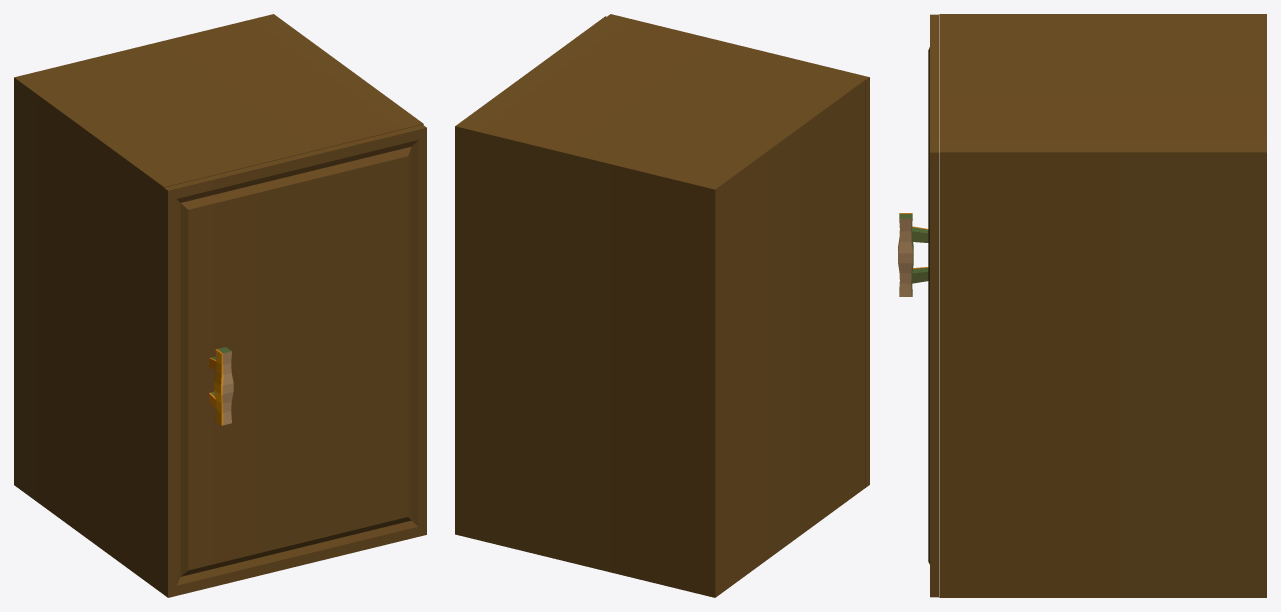
File: KitchenTabletop2_06.fbx
3 renders of one model, left to right at view 1: azimuth 30°, elevation 25°; view 2: azimuth 150°, elevation 25°; view 3: azimuth 270°, elevation 25°, orthographic. The views are drawn at different scales.
Parts seen in each view (by area): view 1: KitchenTabletop2_06; view 2: KitchenTabletop2_06; view 3: KitchenTabletop2_06.
Boxes of the visible parts, x1,y1,x2,y2 form: KitchenTabletop2_06: (14,14,426,597); KitchenTabletop2_06: (455,14,869,597); KitchenTabletop2_06: (898,14,1266,597).
Size of the model in its own units: 0.3985 by 0.5974 by 0.4483.
